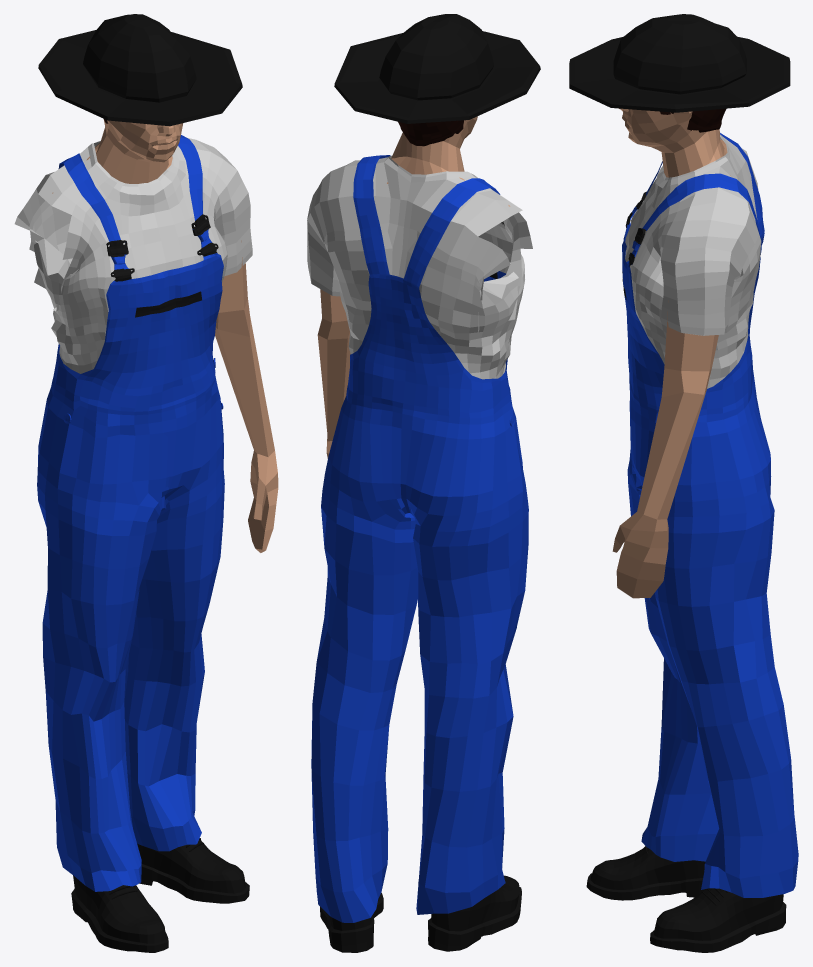
The model's file is corps.obj.
3 renders of one model, left to right at view 1: azimuth 30°, elevation 25°; view 2: azimuth 150°, elevation 25°; view 3: azimuth 270°, elevation 25°, orthographic. The views are drawn at different scales.
Visible parts, largest first — view 1: Worker, Hat; view 2: Worker, Hat; view 3: Worker, Hat.
Boxes of the visible parts, left/top/right/bottom form: Worker: left=14, top=118, right=278, bottom=952; Hat: left=38, top=14, right=242, bottom=126; Worker: left=307, top=116, right=532, bottom=952; Hat: left=334, top=14, right=540, bottom=123; Worker: left=586, top=108, right=798, bottom=952; Hat: left=569, top=14, right=790, bottom=112.
Size of the model in its own units: 0.4725 by 1.84 by 0.4318.
